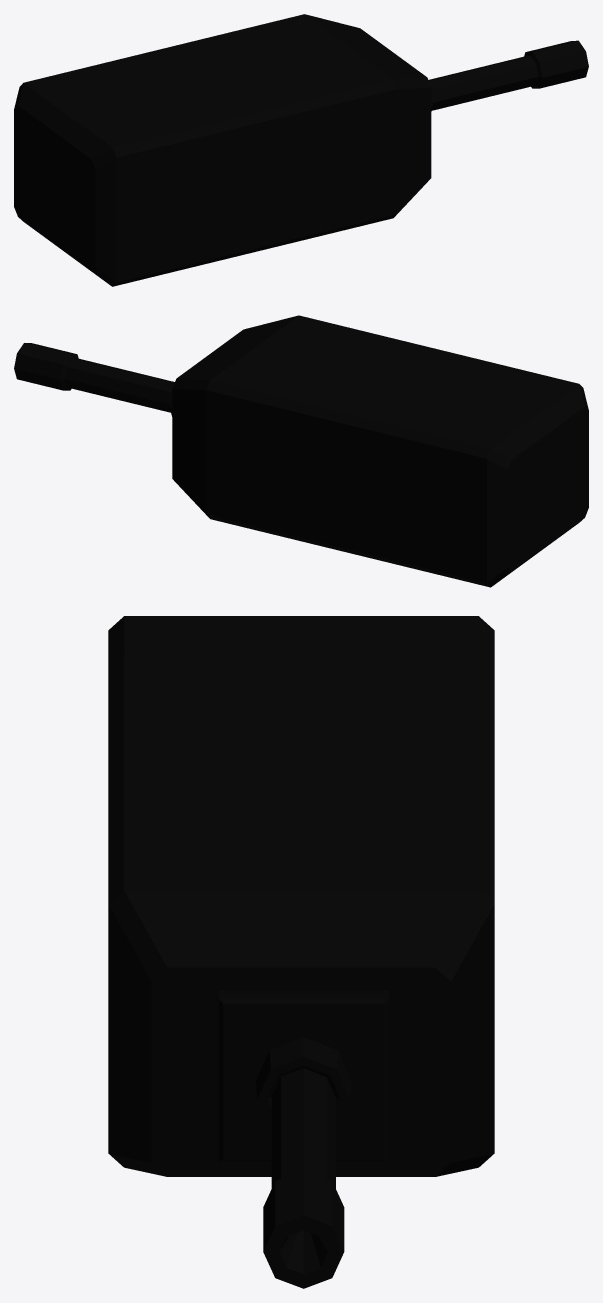
File: Onemesh.fbx
3 renders of one model, top to bottom at view 1: azimuth 30°, elevation 25°; view 2: azimuth 150°, elevation 25°; view 3: azimuth 270°, elevation 25°, orthographic. The views are drawn at different scales.
Parts seen in each view (by area): view 1: Cube.005; view 2: Cube.005; view 3: Cube.005.
Part boxes in pixels (x1,y1,x2,y2): Cube.005: [14, 14, 588, 286]; Cube.005: [14, 315, 588, 587]; Cube.005: [108, 616, 494, 1288].
Size of the model in its own units: 112 by 28.47 by 35.88.
